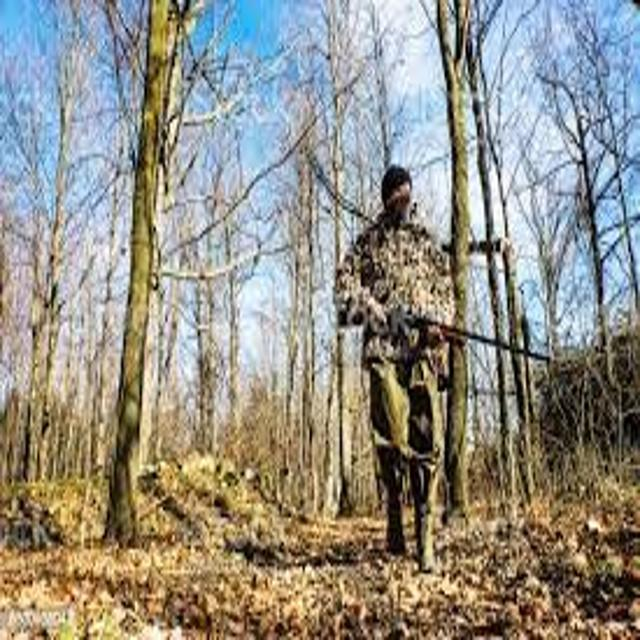gun: (347, 277, 564, 410)
poacher: (312, 136, 508, 592)
